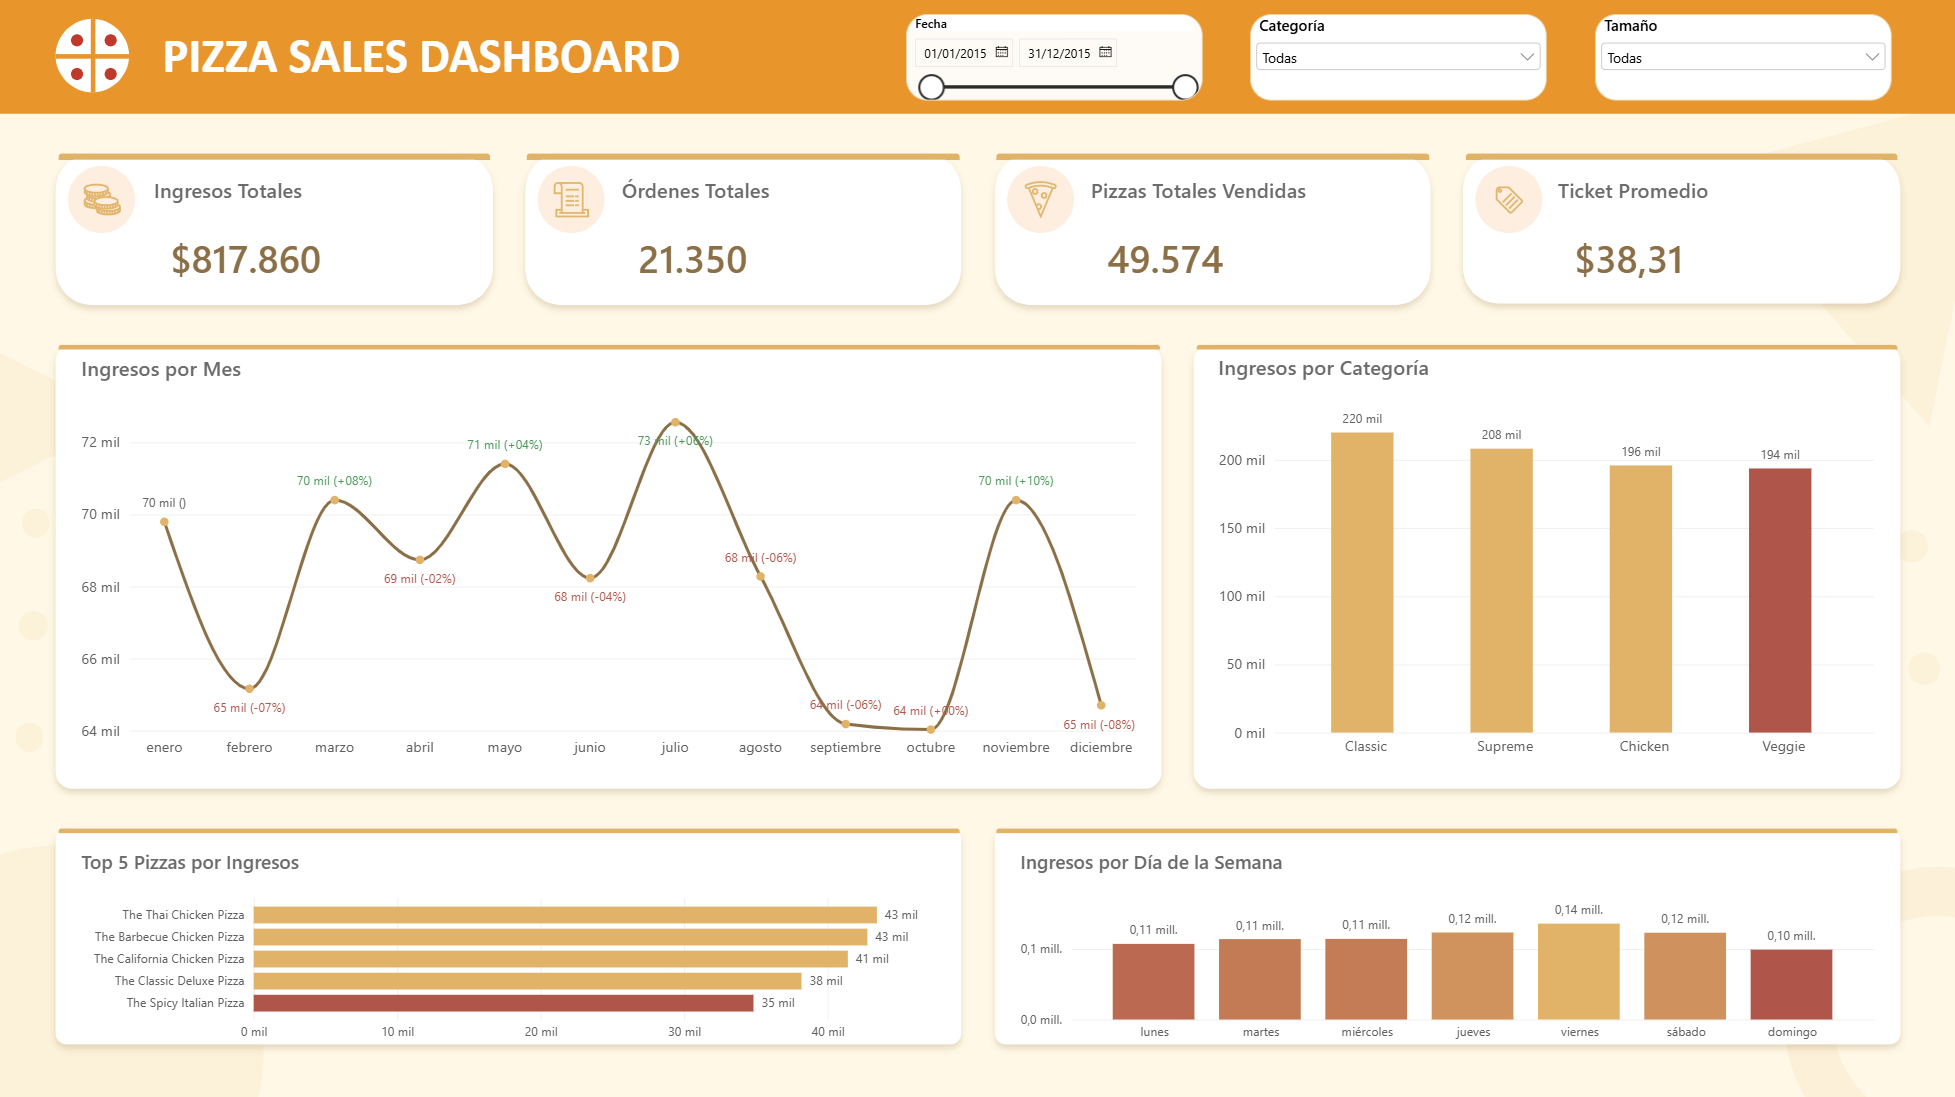

Layout of this report page (visuals, bound fields, positions):
{"tool":"powerbi","page":{"name":"Resumen General","canvas":[1920,1080],"ordinal":0},"visuals":[{"type":"cardVisual","title":"Ingresos Totales","fields":{"Data":["Medidas.Total Revenue Fmt"]},"box":[152.2,173.8,310.5,115.2],"z":0},{"type":"cardVisual","title":"Órdenes Totales","fields":{"Data":["Medidas.Total Orders Fmt"]},"box":[610.9,173.8,310.5,115.2],"z":1000},{"type":"cardVisual","title":"Pizzas Totales Vendidas","fields":{"Data":["Medidas.Total Pizzas Sold Fmt"]},"box":[1070.5,173.8,310.5,115.2],"z":2000},{"type":"cardVisual","title":"Ticket Promedio","fields":{"Data":["Medidas.Average Order Value Fmt"]},"box":[1529.1,173.8,310.5,115.2],"z":3000},{"type":"lineChart","title":"Ingresos por Mes","fields":{"Category":["Date.Mes"],"Y":["Medidas.Total Revenue"]},"box":[64.8,332.9,1067.5,431.1],"z":4000},{"type":"columnChart","title":"Ingresos por Categoría","fields":{"Category":["pizza_types.category"],"Y":["Medidas.Total Revenue"]},"box":[1179.9,332.8,675.3,430.9],"z":5000},{"type":"barChart","title":"Top 5 Pizzas por Ingresos","fields":{"Category":["pizza_types.name"],"Y":["Medidas.Total Revenue"]},"box":[64.8,819.1,870.1,222.9],"z":6000},{"type":"slicer","fields":{"Values":["pizzas.size"]},"box":[1564.7,14.7,290.6,85.4],"z":7000},{"type":"slicer","fields":{"Values":["pizza_types.category"]},"box":[1227,14.7,290.6,85.4],"z":8000},{"type":"slicer","fields":{"Values":["Date.Date"]},"box":[889.3,14.7,290.6,85.4],"z":9000},{"type":"clusteredColumnChart","title":"Ingresos por Día de la Semana","fields":{"Category":["Date.Día Semana"],"Y":["Medidas.Total Revenue"]},"box":[985,819.1,870.1,222.9],"z":10000}]}

Visuals, with their boxes in screenshot pixels (x1, y1, x2, y2), scaled from the page's 1920x1080 canvas onto the 1955x1097 screenshot:
"Ingresos Totales" cardVisual: locate(155, 177, 471, 294)
"Órdenes Totales" cardVisual: locate(622, 177, 938, 294)
"Pizzas Totales Vendidas" cardVisual: locate(1090, 177, 1406, 294)
"Ticket Promedio" cardVisual: locate(1557, 177, 1873, 294)
"Ingresos por Mes" lineChart: locate(66, 338, 1153, 776)
"Ingresos por Categoría" columnChart: locate(1201, 338, 1889, 776)
"Top 5 Pizzas por Ingresos" barChart: locate(66, 832, 952, 1058)
slicer - pizzas.size: locate(1593, 15, 1889, 102)
slicer - pizza_types.category: locate(1249, 15, 1545, 102)
slicer - Date.Date: locate(906, 15, 1201, 102)
"Ingresos por Día de la Semana" clusteredColumnChart: locate(1003, 832, 1889, 1058)
